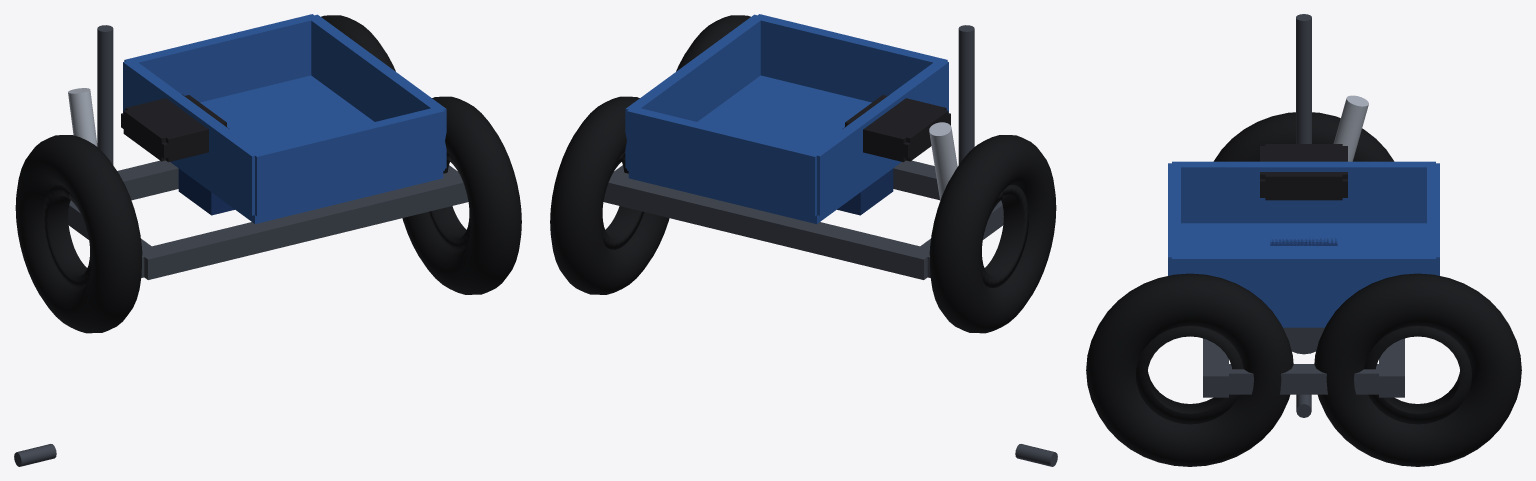
The picture shows the model from 3 angles, left to right: view 1: azimuth 30°, elevation 25°; view 2: azimuth 150°, elevation 25°; view 3: azimuth 270°, elevation 25°; orthographic projection. The views are drawn at different scales.
Visible parts, largest first — view 1: Triciclo eléctrico de carga; view 2: Triciclo eléctrico de carga; view 3: Triciclo eléctrico de carga.
Boxes of the visible parts, x1,y1,x2,y2 form: Triciclo eléctrico de carga: (14,14,521,466); Triciclo eléctrico de carga: (550,14,1057,466); Triciclo eléctrico de carga: (1086,14,1521,466).
Bounding box in the file's own units: 1 × 0.9733 × 0.9005.
